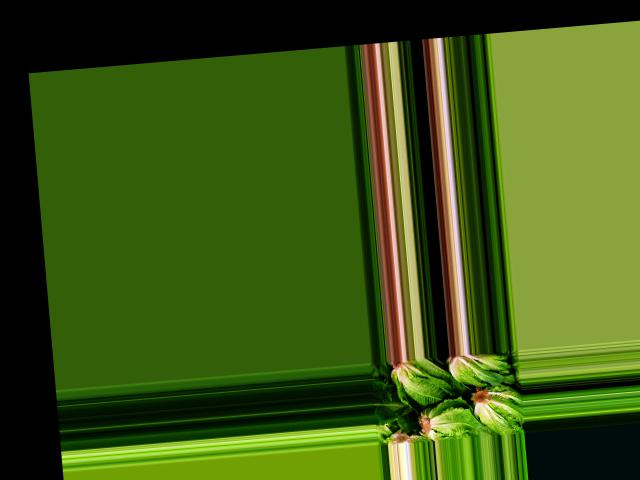lettuce: (371, 388, 409, 425)
